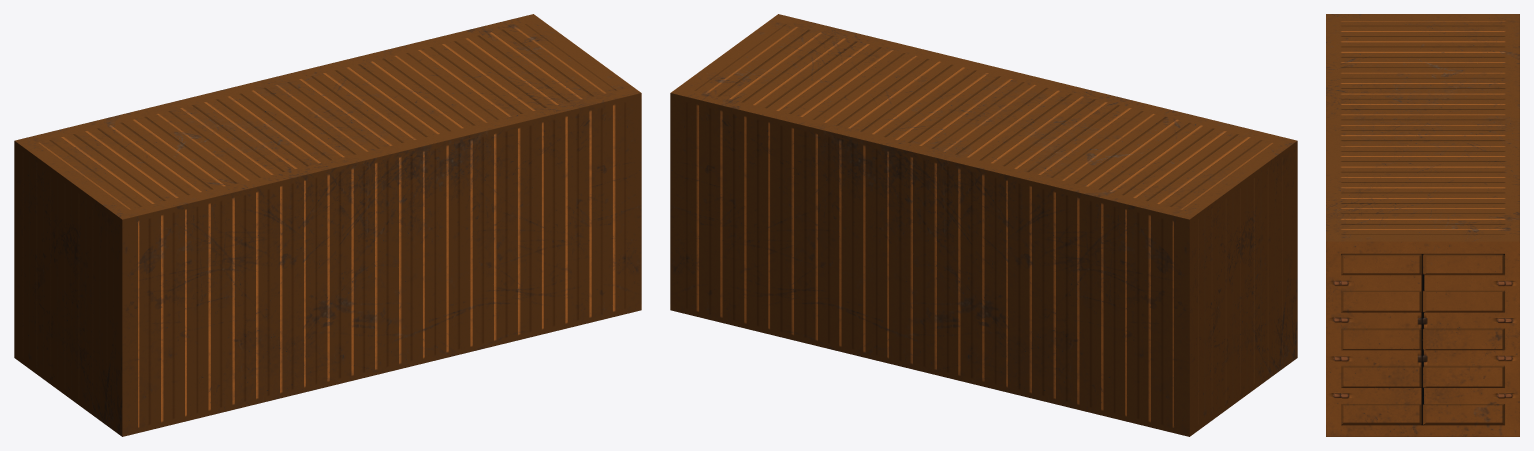
The model's file is contenaLow.fbx.
3 views of the same model, side by side, from view 1: azimuth 30°, elevation 25°; view 2: azimuth 150°, elevation 25°; view 3: azimuth 270°, elevation 25° (orthographic). The views are drawn at different scales.
Visible parts, largest first — view 1: Cube; view 2: Cube; view 3: Cube.
Part boxes in pixels (x1,y1,x2,y2): Cube: [14, 14, 641, 436]; Cube: [670, 14, 1297, 436]; Cube: [1326, 14, 1519, 436].
Size of the model in its own units: 500 by 200 by 180.
